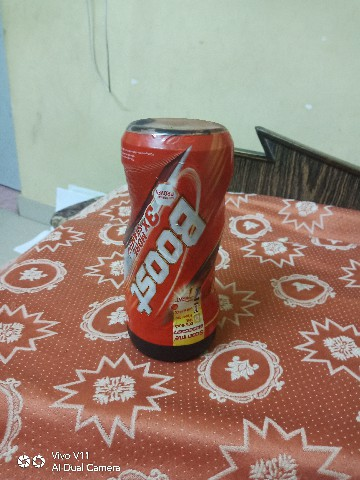boost big: (105, 107, 258, 370)
